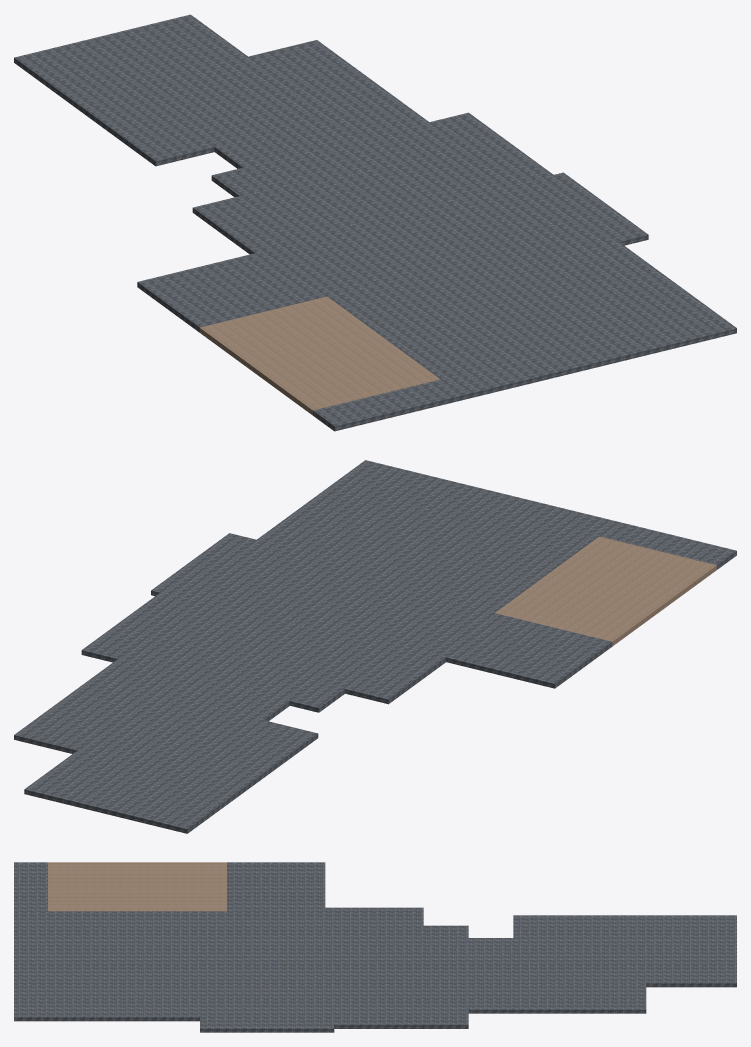
The model's file is DreadWorksLevel1Ground.obj.
3 views of the same model, one above another, from view 1: azimuth 30°, elevation 25°; view 2: azimuth 150°, elevation 25°; view 3: azimuth 270°, elevation 25° (orthographic). The views are drawn at different scales.
Bounding box in the file's own units: 44 × 0.5 × 80.8.
Materials: 2 (2 with a texture image).
